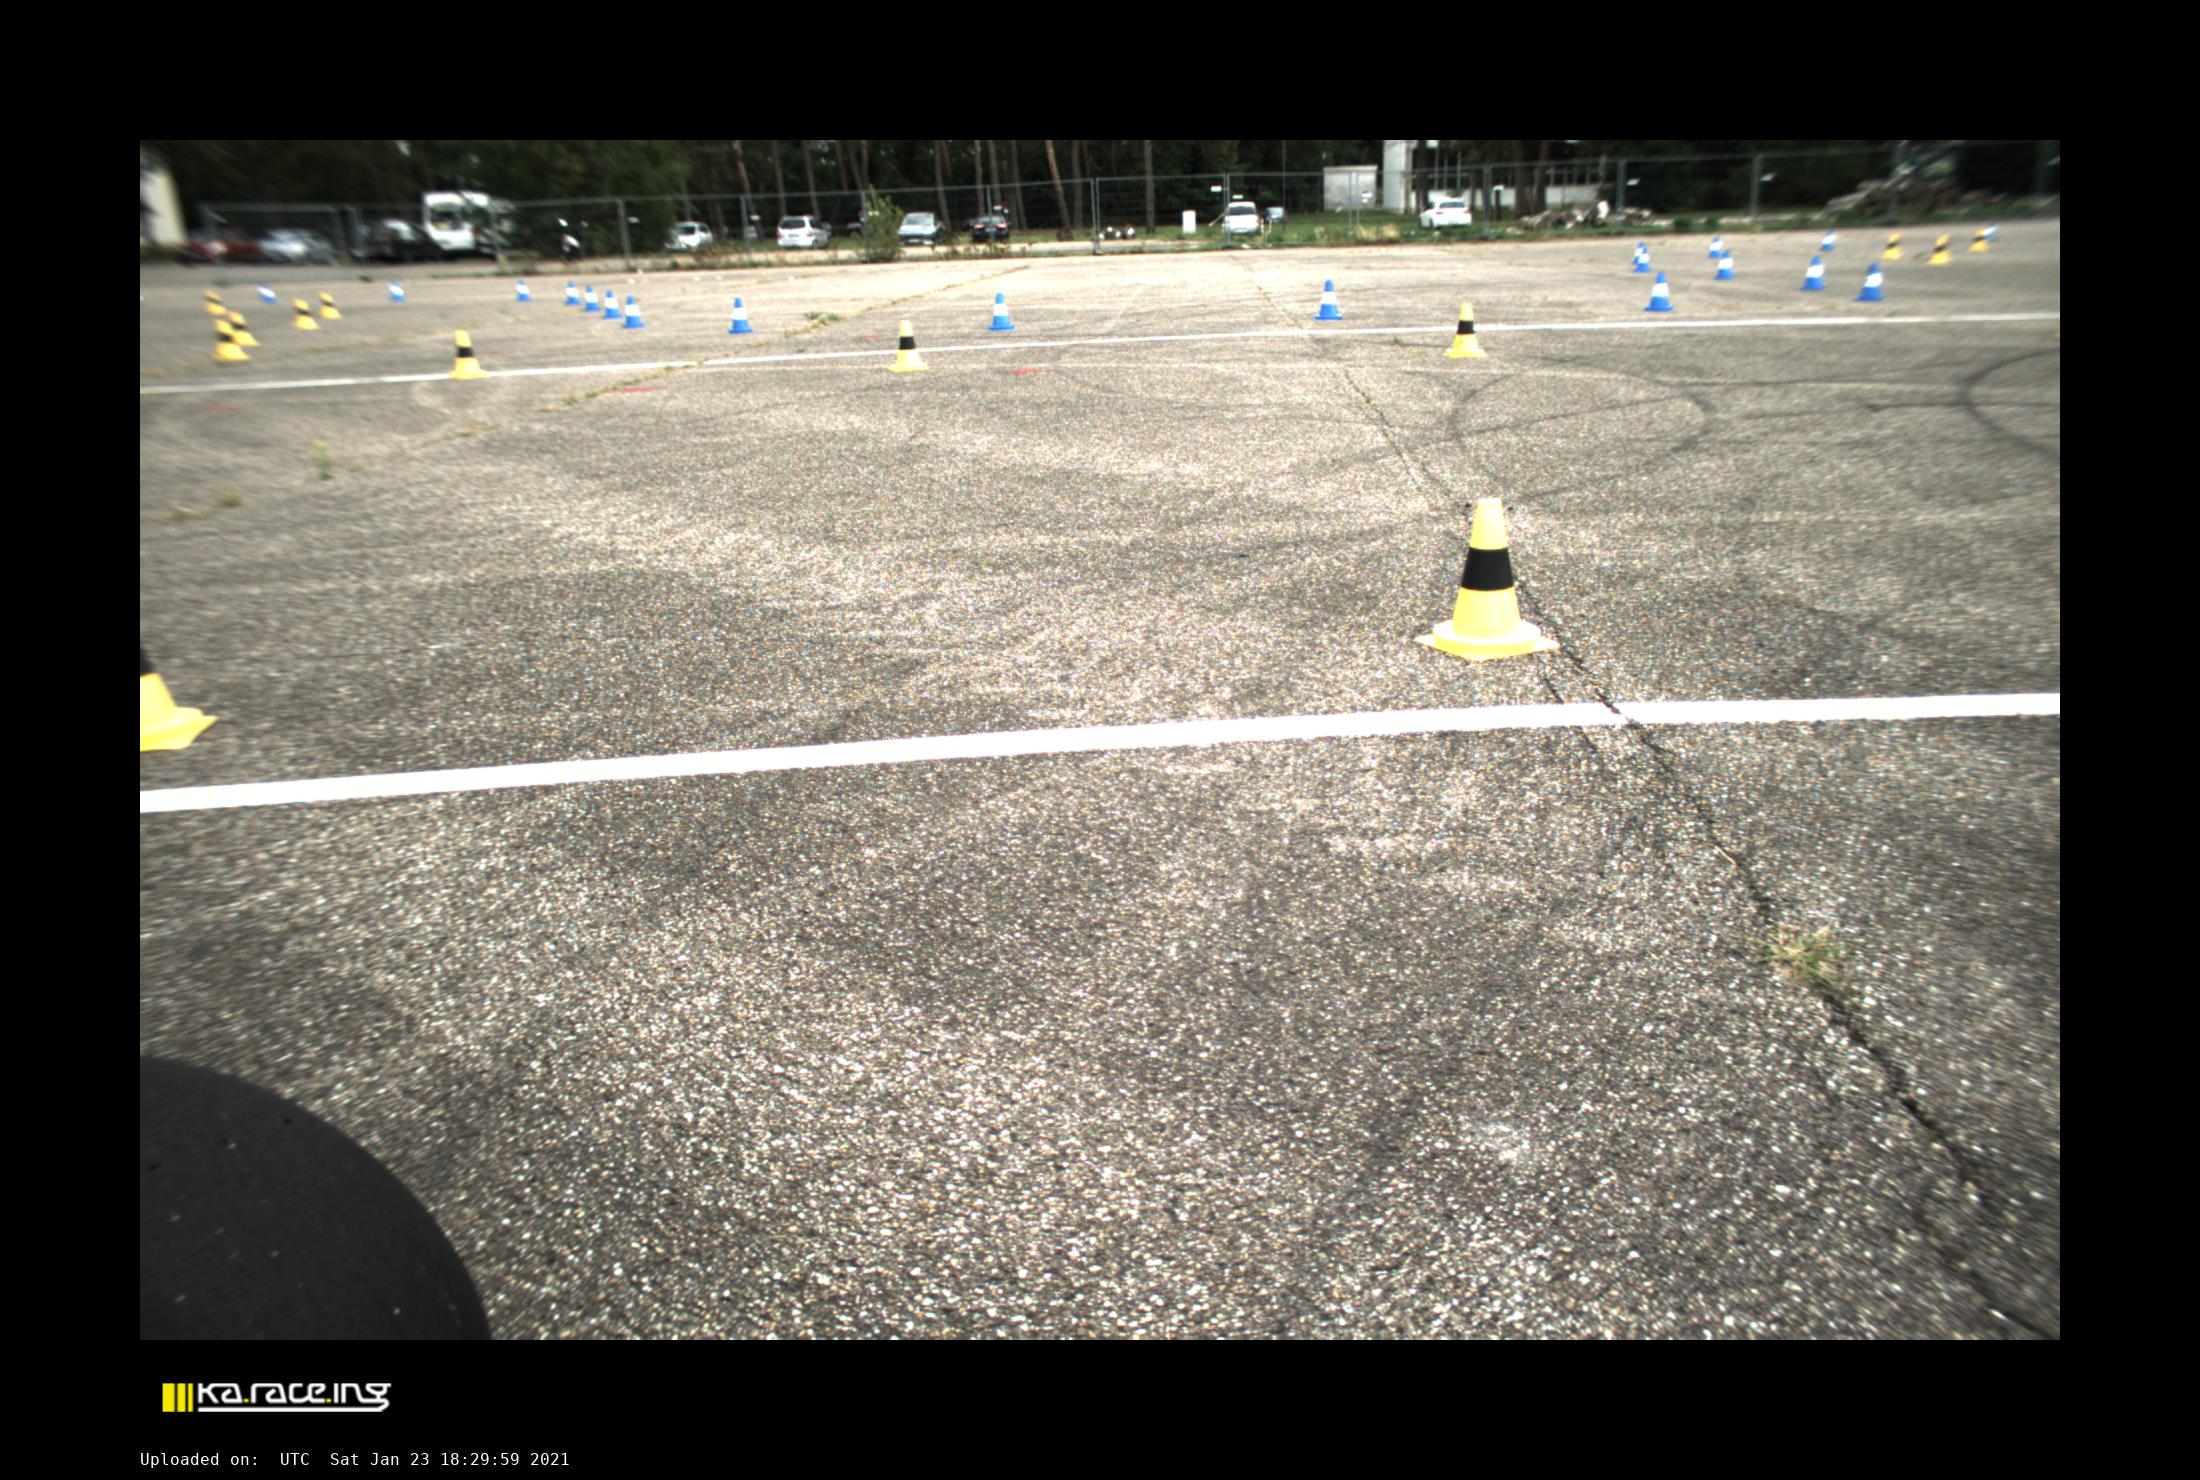blue_cone: (1644, 272, 1673, 311), (1315, 280, 1342, 320), (1855, 264, 1884, 301), (988, 293, 1014, 330), (728, 298, 754, 334), (1800, 257, 1826, 290), (622, 295, 645, 328), (602, 290, 623, 318), (1714, 251, 1735, 279), (564, 281, 582, 305), (584, 286, 601, 311), (515, 279, 533, 302), (1634, 248, 1651, 272), (1818, 230, 1836, 251), (389, 281, 407, 302), (258, 285, 276, 302), (1708, 237, 1722, 258), (1632, 242, 1644, 264), (1985, 222, 1998, 240)
yellow_cone: (1415, 498, 1560, 661), (140, 648, 217, 751), (1444, 302, 1488, 358), (889, 320, 929, 372), (452, 330, 485, 378), (215, 321, 248, 359), (231, 313, 259, 345), (296, 300, 318, 329), (1929, 235, 1950, 264), (1968, 227, 1991, 251), (204, 290, 226, 314), (1883, 233, 1903, 259), (322, 293, 340, 318)
